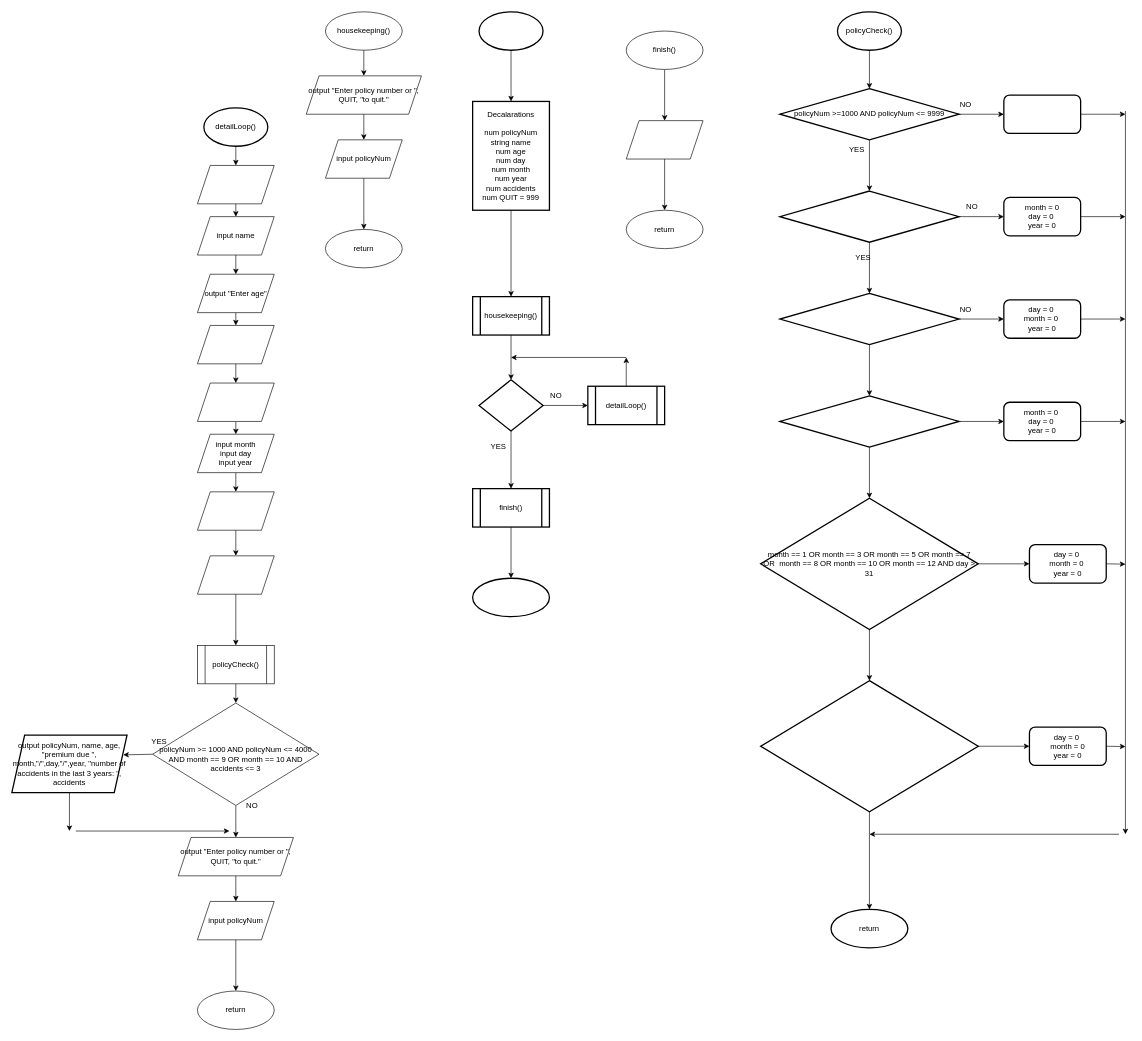
The diagram is 1142 pixels wide and 1041 high, and some of its shapes have lost their labels. Each missing label, with the box of its shape:
day >= 1 AND day <= 31: (779, 292, 959, 345)
input accidents: (197, 555, 274, 594)
input age: (197, 325, 274, 364)
month == 2 AND day >= 29: (779, 395, 959, 447)
month == 4 OR month == 6 OR month == 9 OR month == 11 AND day > 30: (760, 680, 979, 812)
month >= 1 AND month <= 12: (779, 190, 959, 243)
output "end of program": (626, 120, 703, 159)
output "Enter name": (197, 165, 274, 204)
output "Enter number of accidents in the past 3 years": (197, 491, 274, 530)
output "Enter premium due date month, day, year": (197, 382, 274, 421)
policyNum <> QUIT: (478, 379, 543, 431)
policyNum = 0: (1003, 94, 1081, 134)
start: (478, 11, 543, 51)
stop: (472, 577, 550, 617)
